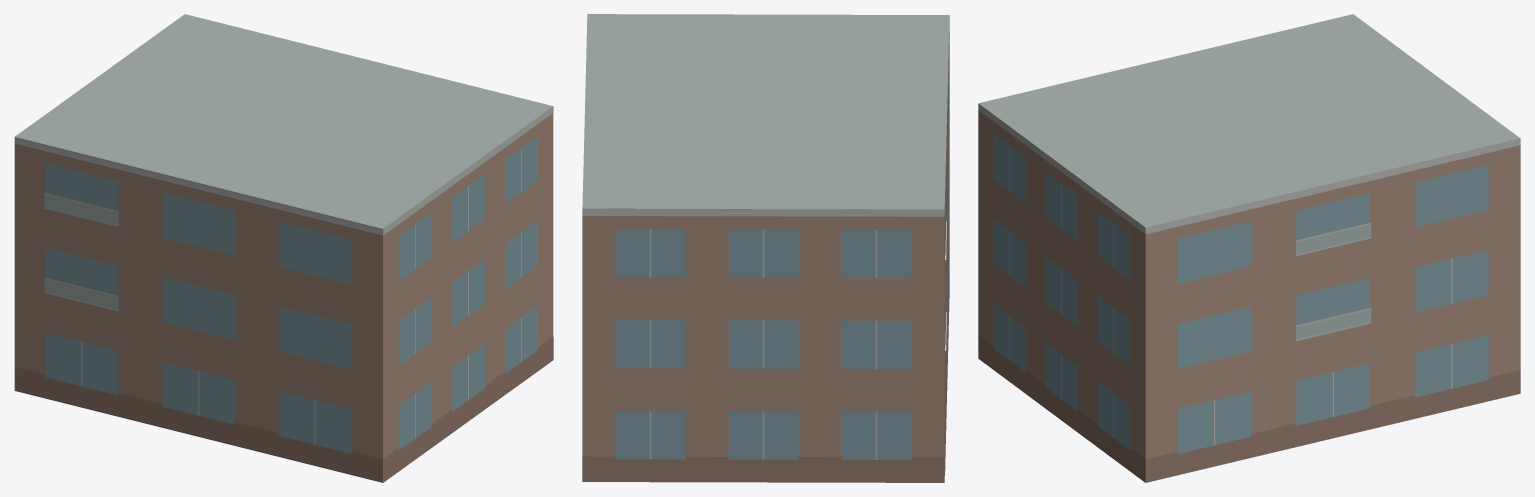
Rendered from survey-upis-32705838.glb.
The picture shows the model from 3 angles, left to right: view 1: azimuth 30°, elevation 25°; view 2: azimuth 150°, elevation 25°; view 3: azimuth 270°, elevation 25°; orthographic projection. The views are drawn at different scales.
Visible parts, largest first — view 1: survey-upis-32705838.tmp; view 2: survey-upis-32705838.tmp; view 3: survey-upis-32705838.tmp.
Boxes of the visible parts, bbox=[...] form: survey-upis-32705838.tmp: bbox=[14, 14, 553, 482]; survey-upis-32705838.tmp: bbox=[582, 14, 949, 482]; survey-upis-32705838.tmp: bbox=[978, 14, 1520, 482].
Bounding box in the file's own units: 16.43 × 9.15 × 17.62.
